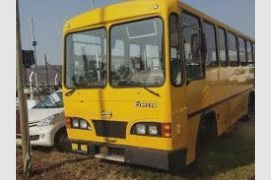bus: (61, 4, 252, 171)
